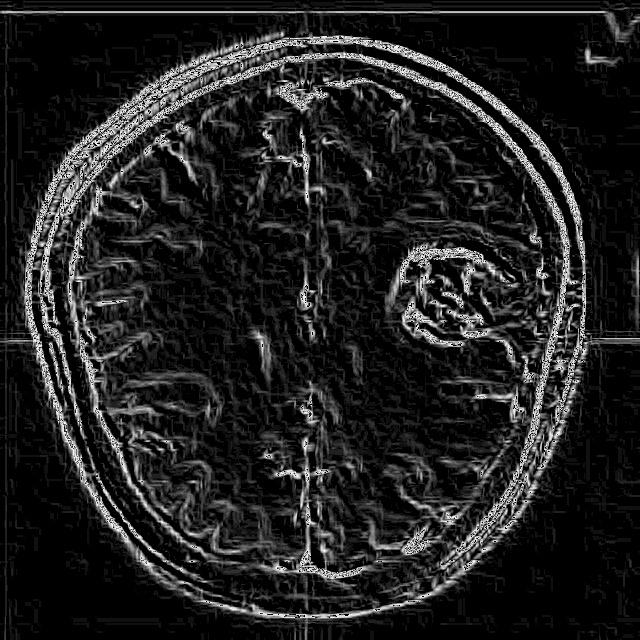Brain-Tumor: (373, 222, 541, 369)
